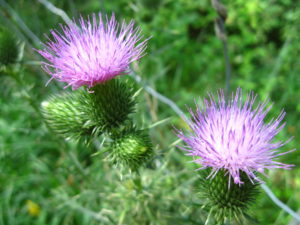thistle: (179, 85, 296, 217), (42, 12, 141, 138)
